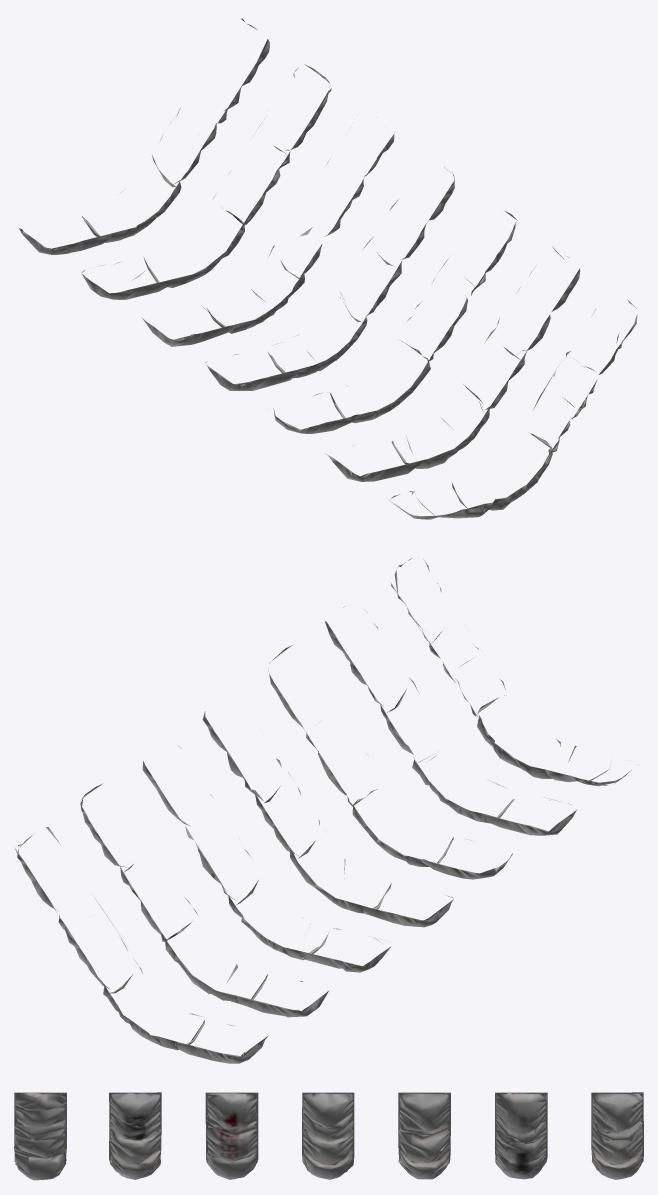
The model's file is SM_Pillow02.gltf.
The picture shows the model from 3 angles, top to bottom: view 1: azimuth 30°, elevation 25°; view 2: azimuth 150°, elevation 25°; view 3: azimuth 270°, elevation 25°; orthographic projection. The views are drawn at different scales.
Parts seen in each view (by area): view 1: SM_Pillow02; view 2: SM_Pillow02; view 3: SM_Pillow02.
Part boxes in pixels (x1,y1,x2,y2): SM_Pillow02: (18, 18, 637, 519); SM_Pillow02: (14, 558, 638, 1063); SM_Pillow02: (14, 1092, 643, 1180).
Bounding box in the file's own units: 1.46 × 1.08 × 4.41.
1 material, 1 textured.
